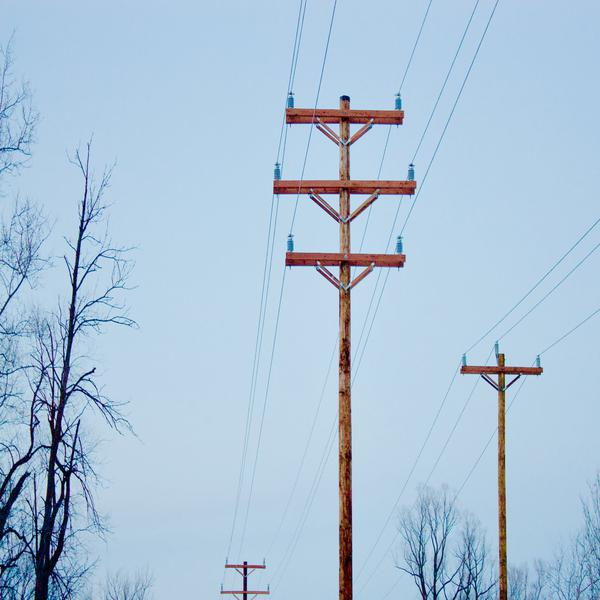utility_pole: (262, 77, 424, 322), (451, 334, 552, 424)
